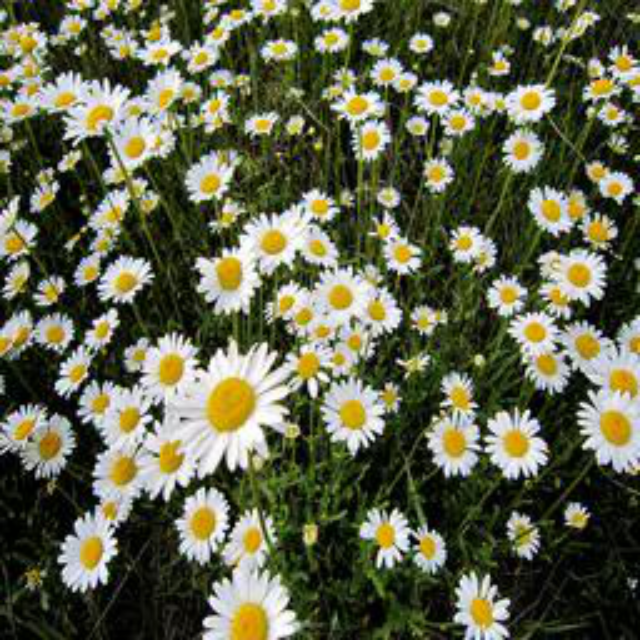daisy: (177, 338, 293, 473), (199, 565, 303, 639), (53, 509, 120, 594), (576, 386, 639, 476), (320, 376, 388, 454), (485, 405, 551, 482), (193, 246, 263, 317), (172, 485, 230, 568), (142, 331, 201, 406), (145, 417, 197, 502), (453, 567, 514, 638), (222, 503, 281, 575), (357, 500, 414, 574), (65, 79, 132, 140), (426, 409, 481, 483), (241, 211, 303, 275), (21, 413, 77, 481), (93, 442, 149, 505), (282, 341, 343, 398), (101, 389, 155, 453), (97, 252, 155, 309), (76, 373, 132, 430), (522, 181, 576, 240), (555, 248, 609, 303), (314, 269, 368, 321), (186, 149, 236, 202), (1, 402, 51, 455), (502, 81, 560, 125), (53, 342, 97, 398), (557, 320, 608, 367), (503, 509, 543, 567), (506, 312, 561, 354), (296, 224, 343, 273), (521, 350, 572, 394), (500, 127, 547, 174), (108, 126, 157, 171), (330, 85, 388, 123), (484, 272, 530, 319), (138, 69, 185, 114), (360, 290, 405, 335), (347, 119, 393, 163), (83, 189, 131, 231), (41, 72, 93, 110), (264, 279, 311, 321), (411, 521, 448, 574), (1, 310, 35, 365), (601, 352, 639, 401), (337, 323, 382, 363), (299, 186, 342, 227), (83, 309, 123, 352), (445, 224, 485, 266), (381, 237, 424, 276), (35, 311, 76, 351), (416, 80, 464, 114), (578, 213, 621, 250), (603, 40, 639, 83), (122, 336, 159, 377), (2, 221, 41, 259), (578, 73, 622, 105), (539, 281, 576, 319), (208, 198, 247, 234), (420, 153, 454, 194), (325, 340, 362, 377), (3, 92, 42, 126), (598, 170, 635, 205), (285, 300, 323, 334), (1, 21, 41, 53), (560, 498, 595, 534), (371, 380, 406, 416), (410, 300, 438, 342), (137, 40, 184, 65), (323, 1, 375, 23), (439, 110, 477, 140), (241, 110, 280, 139), (535, 248, 568, 282), (145, 129, 178, 163), (303, 311, 337, 344), (312, 28, 352, 56), (185, 42, 220, 74), (3, 262, 31, 302), (33, 274, 68, 306), (72, 252, 104, 287), (367, 212, 400, 245), (14, 31, 50, 61), (26, 185, 62, 215), (614, 315, 639, 357), (395, 352, 433, 379), (261, 38, 299, 65), (199, 90, 233, 120), (563, 189, 591, 225), (368, 57, 403, 84), (374, 182, 405, 211), (120, 94, 151, 123), (473, 236, 499, 270), (594, 102, 626, 129), (220, 9, 253, 34), (100, 24, 141, 44), (58, 15, 90, 40), (1, 198, 22, 236), (358, 261, 387, 288), (19, 75, 49, 101), (401, 114, 432, 139), (85, 234, 116, 259), (109, 39, 141, 63), (208, 68, 237, 93), (250, 1, 290, 19), (55, 149, 85, 173), (308, 1, 339, 24), (203, 23, 230, 49), (176, 79, 203, 105), (463, 86, 488, 113), (487, 50, 512, 77), (408, 32, 435, 56), (585, 159, 610, 184), (137, 190, 161, 216), (605, 133, 630, 157), (531, 23, 555, 48), (362, 38, 391, 58), (489, 91, 510, 118), (140, 27, 172, 44), (31, 168, 58, 188), (97, 221, 121, 243), (335, 67, 359, 88), (394, 72, 419, 92), (320, 82, 345, 102), (287, 113, 307, 137), (64, 1, 99, 14), (1, 65, 18, 91), (431, 9, 455, 27), (203, 113, 223, 134), (127, 176, 148, 196), (199, 7, 222, 25), (577, 10, 604, 25), (122, 1, 147, 16), (190, 111, 213, 127), (93, 5, 112, 21), (553, 1, 578, 13), (99, 1, 122, 13)
